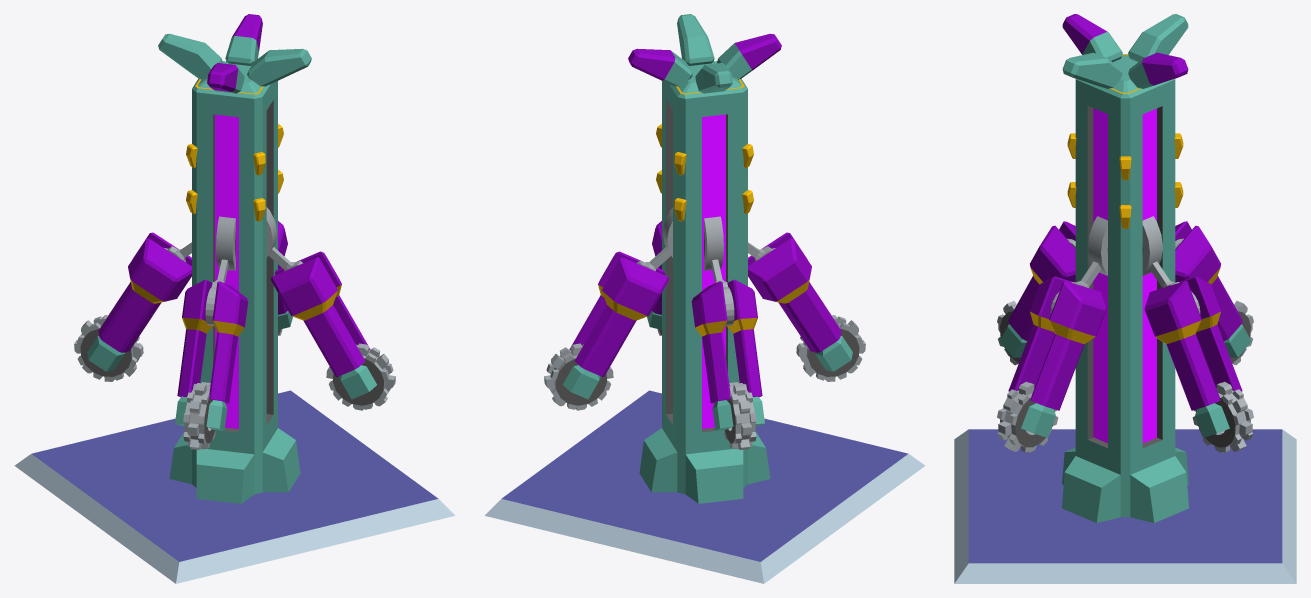
The model's file is 90_Haarvester_KEK8.fbx.
3 views of the same model, side by side, from view 1: azimuth 30°, elevation 25°; view 2: azimuth 150°, elevation 25°; view 3: azimuth 270°, elevation 25° (orthographic). The views are drawn at different scales.
Visible parts, largest first — view 1: foundation8, base1, polySurface73 (×3), pPipe32 (×3), polySurface72 (×3), pCube174, pCube176, pCube175, elevator1, pCube158; view 2: foundation8, base1, polySurface73 (×3), pPipe32 (×3), polySurface72 (×3), pCube158, pCube175, pCube176, elevator2, pCube174; view 3: foundation8, base1, polySurface73 (×4), pPipe32 (×4), polySurface72 (×4), pCube174, pCube158, pCube175, pCube176, elevator1, elevator2.
Boxes of the visible parts, <box> form: foundation8: <box>14,390,455,583</box>; base1: <box>169,61,300,503</box>; polySurface73 (×3): <box>98,232,370,403</box>; pPipe32 (×3): <box>74,315,395,449</box>; polySurface72 (×3): <box>87,336,376,430</box>; pCube174: <box>158,33,222,79</box>; pCube176: <box>247,48,311,86</box>; pCube175: <box>225,14,262,65</box>; elevator1: <box>216,216,235,270</box>; pCube158: <box>207,63,244,93</box>; foundation8: <box>484,390,925,583</box>; base1: <box>639,61,770,503</box>; polySurface73 (×3): <box>569,232,841,403</box>; pPipe32 (×3): <box>544,315,865,449</box>; polySurface72 (×3): <box>563,336,852,430</box>; pCube158: <box>717,33,781,79</box>; pCube175: <box>628,48,692,86</box>; pCube176: <box>677,14,714,65</box>; elevator2: <box>704,216,723,270</box>; pCube174: <box>695,63,732,93</box>; foundation8: <box>954,429,1296,583</box>; base1: <box>1062,54,1188,522</box>; polySurface73 (×4): <box>1008,221,1242,410</box>; pPipe32 (×4): <box>997,301,1253,452</box>; polySurface72 (×4): <box>999,324,1251,437</box>; pCube174: <box>1128,14,1188,62</box>; pCube158: <box>1062,14,1122,62</box>; pCube175: <box>1128,52,1188,88</box>; pCube176: <box>1062,52,1122,88</box>; elevator1: <box>1142,216,1162,275</box>; elevator2: <box>1088,216,1107,275</box>.
Bounding box in the file's own units: 2 × 3.06 × 2.
